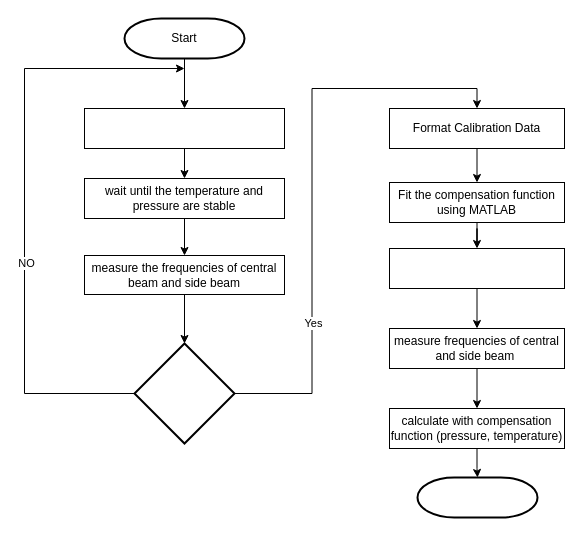
Image size: 582x535. Some labels were removed from this diagram. Each missing label, with the centre of its shape:
Calibration completed?: (184,393)
End: (477,497)
Self -temperature compensation: (476,268)
Set Temperature and pressure at a certain calibration point: (184,128)
